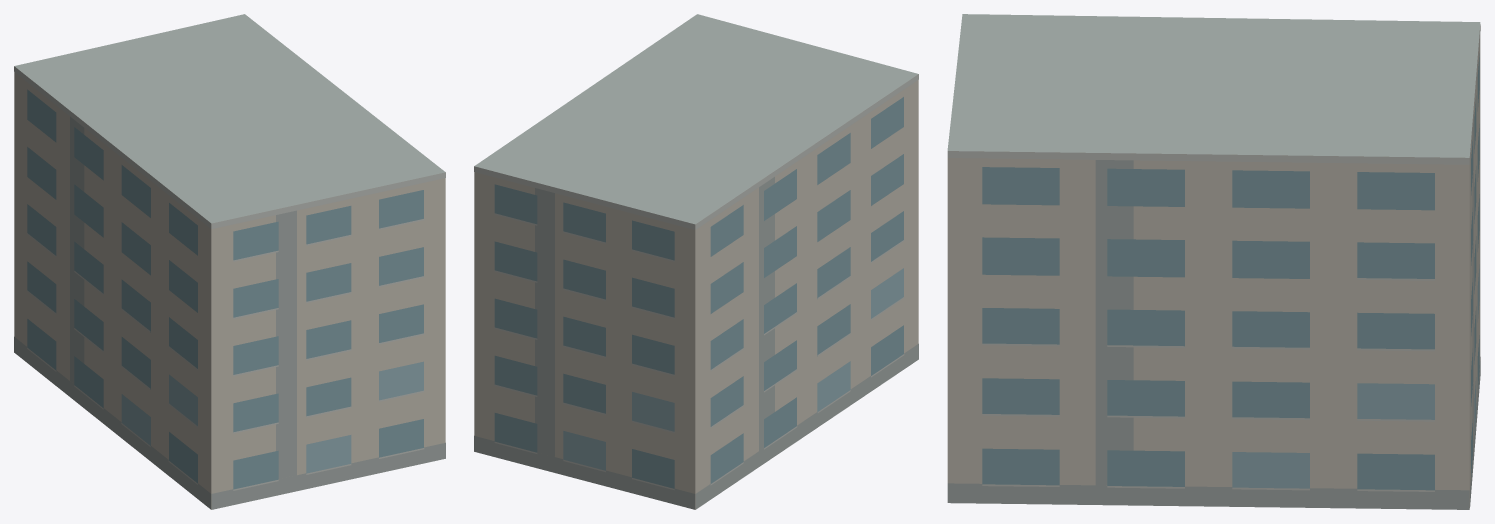
Rendered from survey-upis-32663025.glb.
3 views of the same model, side by side, from view 1: azimuth 30°, elevation 25°; view 2: azimuth 150°, elevation 25°; view 3: azimuth 270°, elevation 25° (orthographic). The views are drawn at different scales.
Visible parts, largest first — view 1: survey-upis-32663025.tmp; view 2: survey-upis-32663025.tmp; view 3: survey-upis-32663025.tmp.
Boxes of the visible parts, left/top/right/bottom form: survey-upis-32663025.tmp: left=14, top=14, right=445, bottom=509; survey-upis-32663025.tmp: left=474, top=14, right=918, bottom=509; survey-upis-32663025.tmp: left=947, top=14, right=1480, bottom=509.
Bounding box in the file's own units: 10.79 × 12.3 × 16.89.
